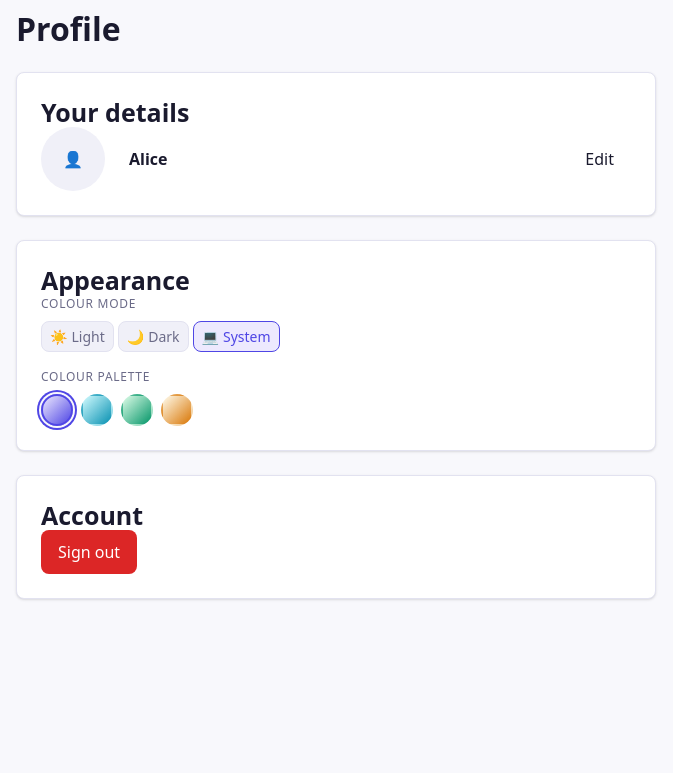
Scenario: Profile › shows the edit form when Edit is clicked
Click the button "Edit" at (600, 159), box [568, 137, 631, 181]
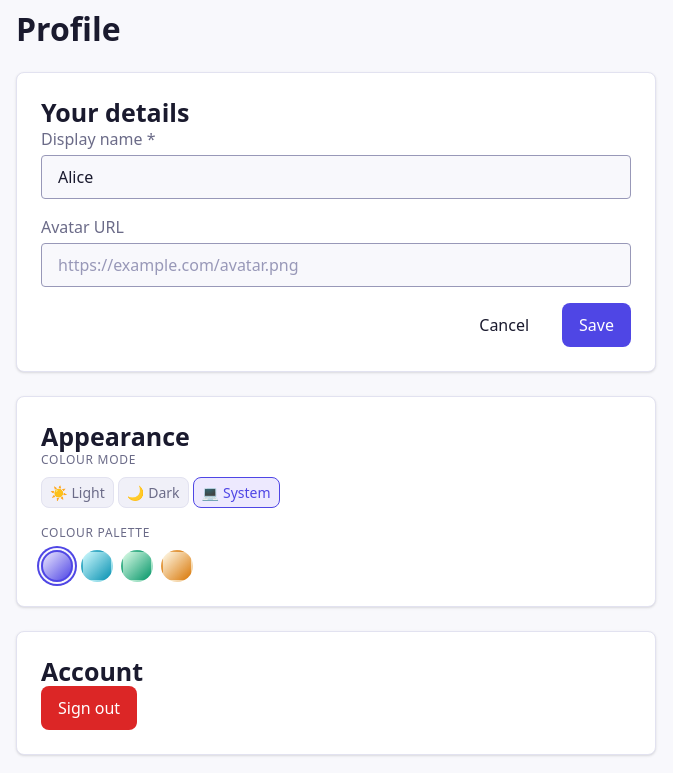
Now the field labelled "Display name *" is shown, box [41, 155, 631, 199]
